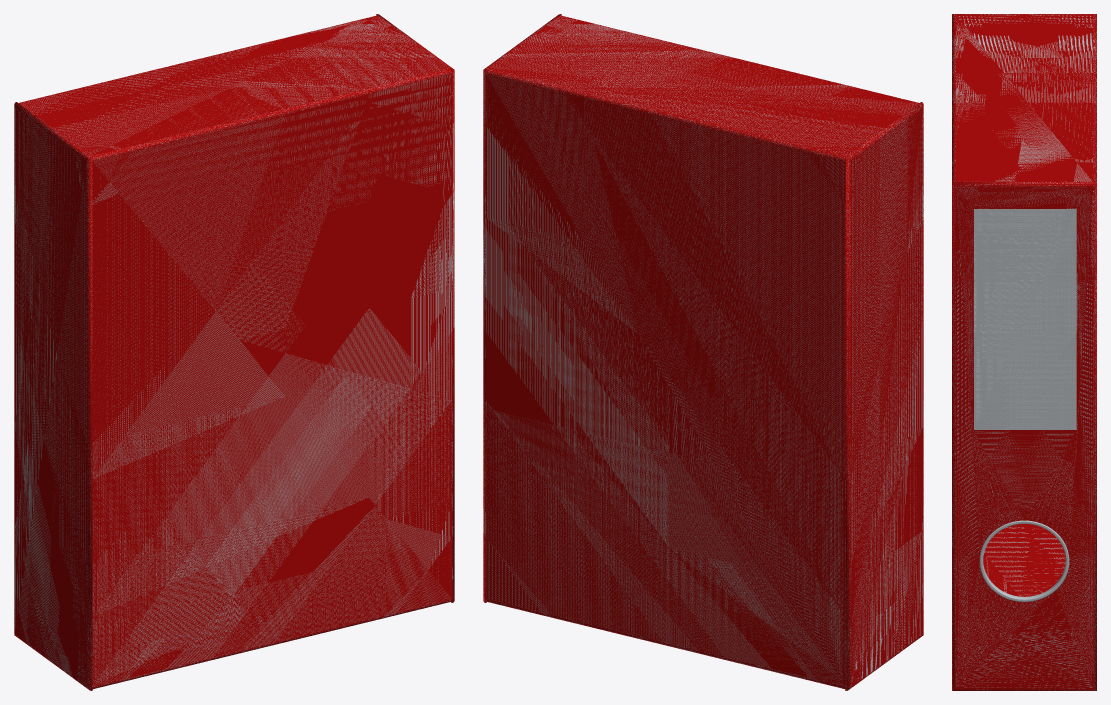
The picture shows the model from 3 angles, left to right: view 1: azimuth 30°, elevation 25°; view 2: azimuth 150°, elevation 25°; view 3: azimuth 270°, elevation 25°; orthographic projection. The views are drawn at different scales.
Visible parts, largest first — view 1: instance_0; view 2: instance_0; view 3: instance_0, instance_0_004, instance_0_003, instance_0_002.
Part boxes in pixels (<box>): instance_0: <box>14,14,454,690</box>; instance_0: <box>483,14,923,690</box>; instance_0: <box>952,14,1096,690</box>; instance_0_004: <box>974,209,1076,429</box>; instance_0_003: <box>979,520,1069,601</box>; instance_0_002: <box>982,523,1066,599</box>.
Bounding box in the file's own units: 0.2254 × 0.0805 × 0.312.
